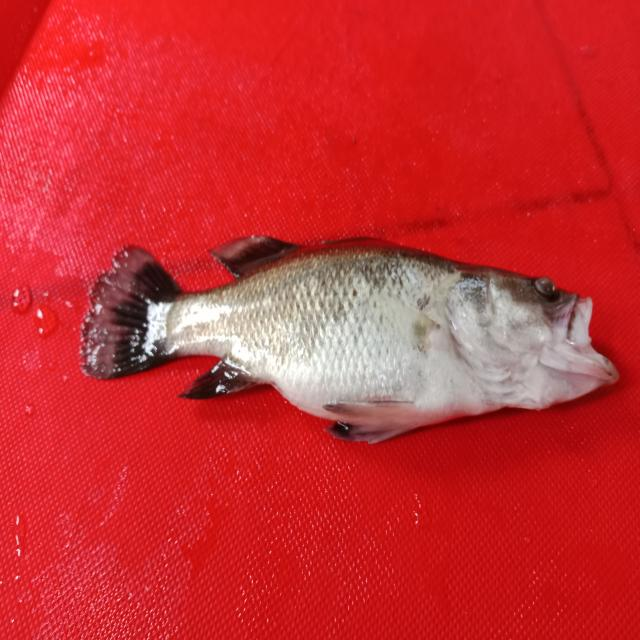ikan: (72, 208, 628, 464)
